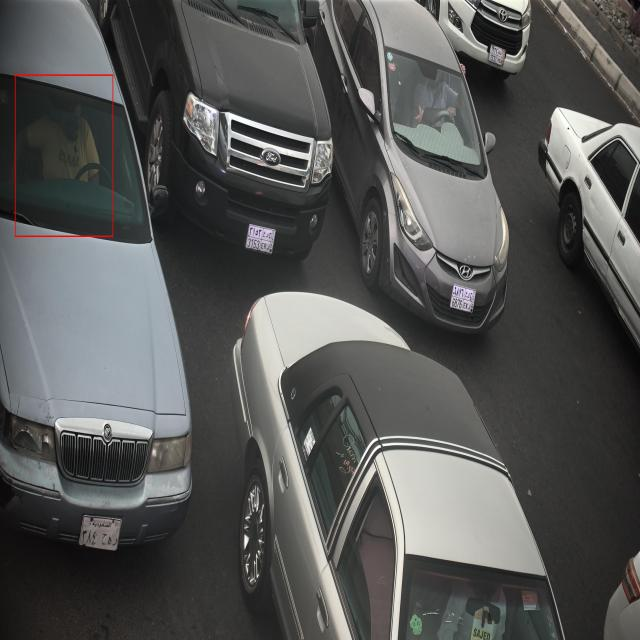windshield: (0, 67, 158, 255), (389, 544, 572, 640), (383, 42, 488, 180)
